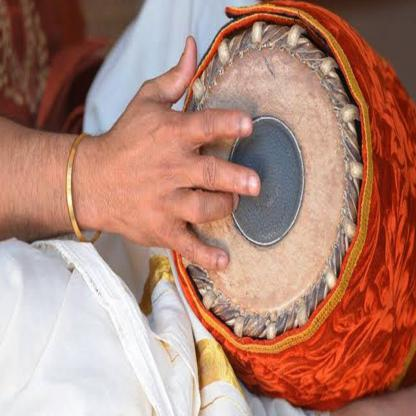Mridangam: (168, 1, 392, 407)
